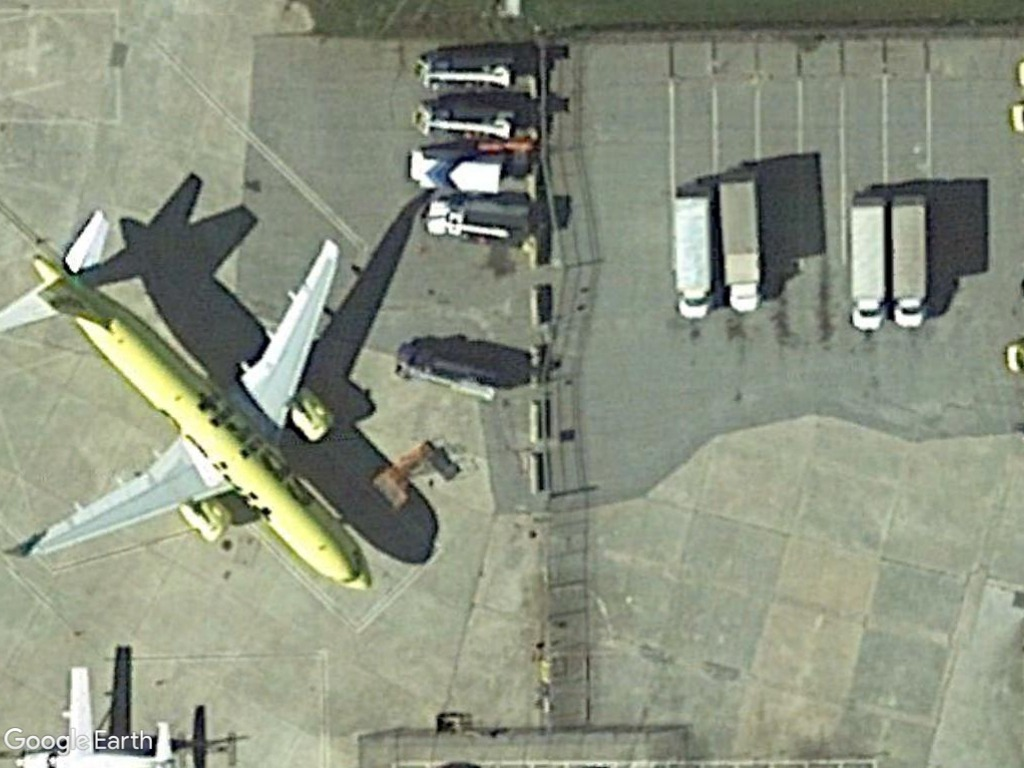airliner: (0, 197, 376, 601)
truck: (712, 174, 763, 315), (841, 193, 889, 338), (886, 188, 933, 334), (670, 193, 718, 323)
